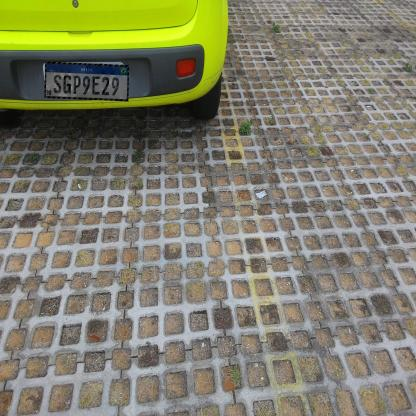PlacaM: (44, 62, 129, 101)
